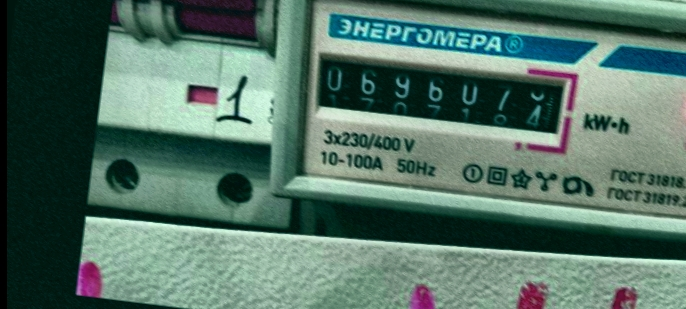0: (459, 76, 481, 108), (325, 63, 345, 93)
4: (524, 99, 544, 130)
6: (426, 73, 447, 104), (359, 67, 379, 96)
7: (493, 81, 515, 115)
9: (391, 71, 413, 101)
screen: (299, 37, 584, 155)
